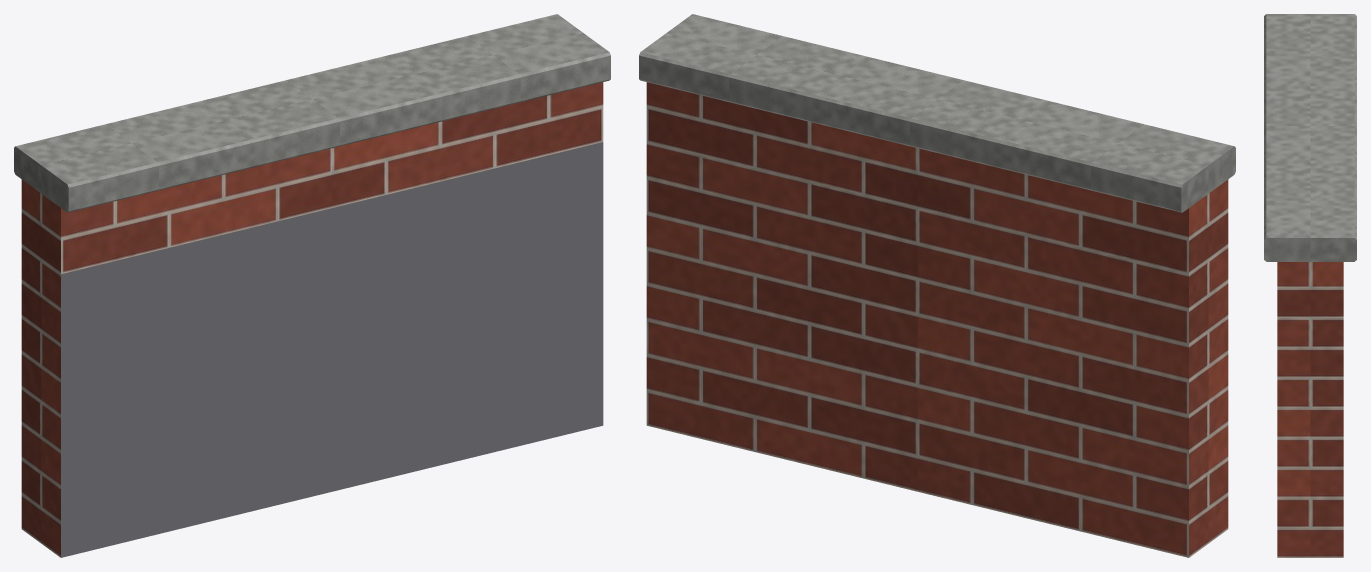
The model's file is parapet_120.glb.
The picture shows the model from 3 angles, left to right: view 1: azimuth 30°, elevation 25°; view 2: azimuth 150°, elevation 25°; view 3: azimuth 270°, elevation 25°; orthographic projection. The views are drawn at different scales.
Visible parts, largest first — view 1: parapet_120-col; view 2: parapet_120-col; view 3: parapet_120-col.
Part boxes in pixels (left/top/right/bottom): parapet_120-col: left=14, top=14, right=610, bottom=557; parapet_120-col: left=639, top=14, right=1235, bottom=557; parapet_120-col: left=1264, top=14, right=1356, bottom=557.
Bounding box in the file's own units: 1.2 × 0.8 × 0.21.
Materials: 3 (2 with a texture image).
